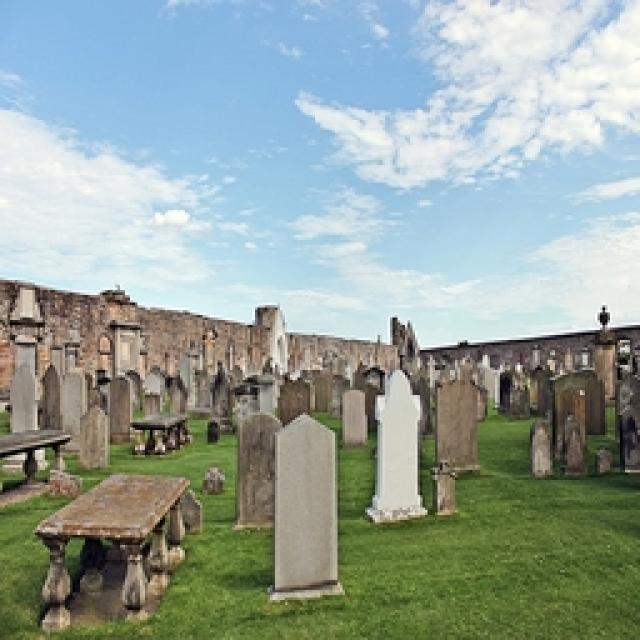Abbey: (18, 258, 638, 486)
